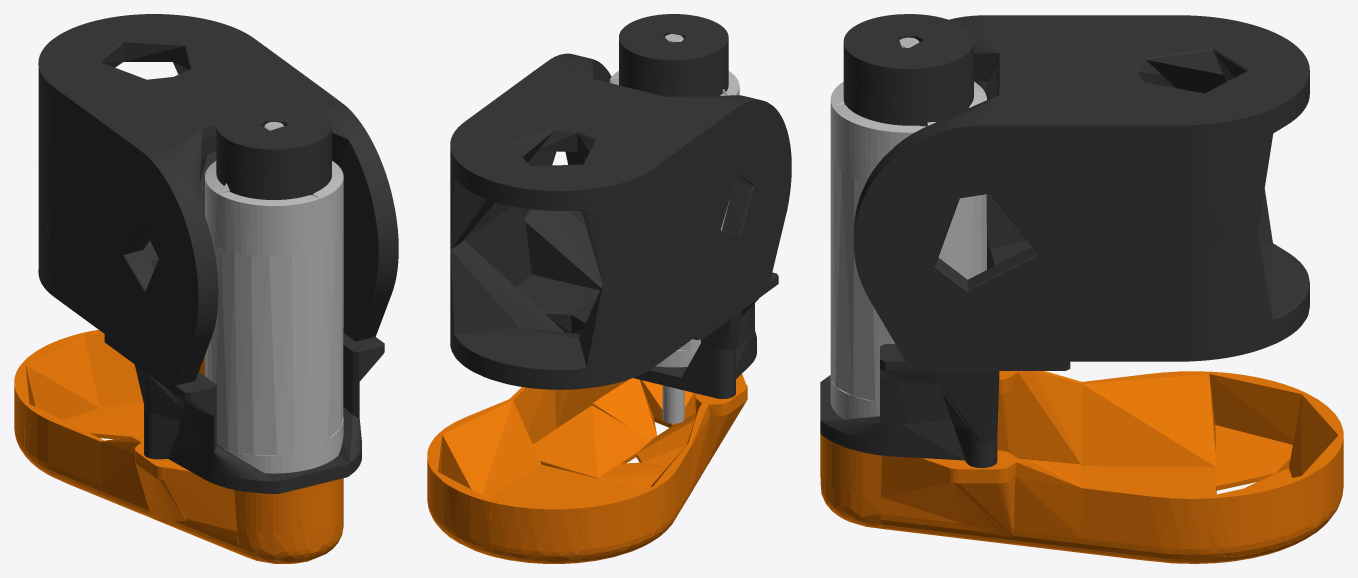
File: LARM_LINK6_mesh.dae
3 renders of one model, left to right at view 1: azimuth 30°, elevation 25°; view 2: azimuth 150°, elevation 25°; view 3: azimuth 270°, elevation 25°, orthographic. The views are drawn at different scales.
Parts seen in each view (by area): view 1: LARM_LINK6 (×5); view 2: LARM_LINK6 (×5); view 3: LARM_LINK6 (×5).
Part boxes in pixels (x1,y1,x2,y2): LARM_LINK6 (×5): [14, 14, 398, 563]; LARM_LINK6 (×5): [427, 14, 791, 563]; LARM_LINK6 (×5): [820, 14, 1343, 563].
Bounding box in the file's own units: 0.058 × 0.0989 × 0.1004.
